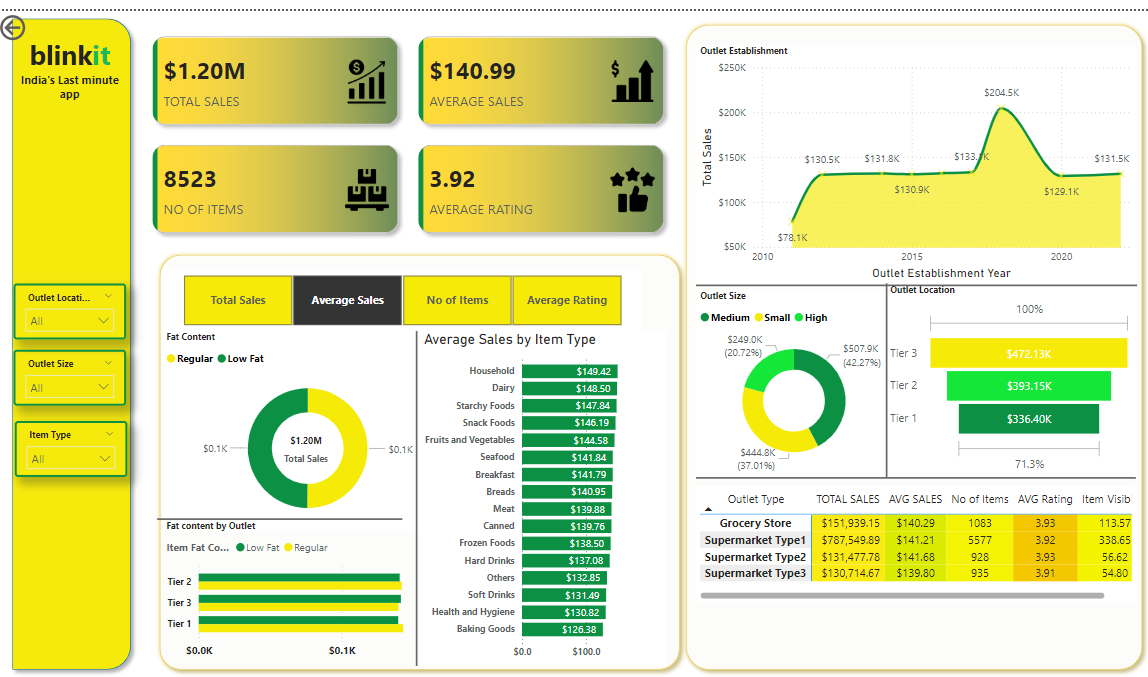

What the dashboard file says about the page in this screenshot:
{"tool":"powerbi","page":{"name":"Page 1","canvas":[1400,800],"ordinal":0},"visuals":[{"type":"shape","box":[10.5,0,160.6,800],"z":0},{"type":"textbox","box":[21,25.5,135.1,94.6],"z":1000},{"type":"cardVisual","fields":{"Data":["Sheet1.Total Sales","Sheet1.Average Sales","Sheet1.No of Items","Sheet1.Average Rating"]},"box":[171.1,13.5,648.4,270.2],"z":2000},{"type":"shape","box":[187.6,283.7,642.4,516.3],"z":3000},{"type":"donutChart","title":"Fat Content","fields":{"Y":["Sheet1.Average Sales"],"Category":["Sheet1.Item Fat Content"]},"box":[199.6,384.2,349.7,240.1],"z":4000},{"type":"slicer","fields":{"Values":["Metrics.Metrics"]},"box":[199.6,310.7,574.8,73.5],"z":5000},{"type":"cardVisual","fields":{"Data":["Sheet1.Total Sales"]},"box":[340.7,502.8,63,48],"z":6000},{"type":"clusteredBarChart","title":"Fat content by Outlet","fields":{"Y":["Sheet1.Average Sales"],"Category":["Sheet1.Outlet Location Type"],"Series":["Sheet1.Item Fat Content"]},"box":[199.6,610.9,349.7,175.6],"z":7000},{"type":"shape","box":[193.6,585.3,294.2,49.5],"z":8000},{"type":"clusteredBarChart","fields":{"Y":["Sheet1.Average Sales"],"Category":["Sheet1.Item Type"]},"box":[508.8,384.2,297.2,402.2],"z":9000},{"type":"shape","box":[819.5,7.5,565.8,792.5],"z":10000},{"type":"lineChart","title":"Outlet Establishment","fields":{"Category":["Sheet1.Outlet Establishment Year"],"Y":["Sheet1.Total Sales"]},"box":[840.5,40.5,528.3,286.7],"z":11000},{"type":"donutChart","title":"Outlet Size","fields":{"Y":["Sheet1.Total Sales"],"Category":["Sheet1.Outlet Size"]},"box":[840.5,334.7,235.6,225.1],"z":12000},{"type":"funnel","title":"Outlet Location","fields":{"Y":["Sheet1.Total Sales"],"Category":["Sheet1.Outlet Location Type"]},"box":[1068.6,327.2,300.2,232.6],"z":13000},{"type":"pivotTable","fields":{"Rows":["Sheet1.Outlet Type"],"Values":["Sheet1.Total Sales","Sheet1.Average Sales","Sheet1.No of Items","Sheet1.Average Rating","Sum(Sheet1.Item Visibility)"]},"box":[840.5,570.3,528.3,141.1],"z":14000},{"type":"actionButton","box":[0,0,100,40],"z":15000},{"type":"slicer","title":"Outlet Location ","fields":{"Values":["Sheet1.Outlet Location Type"]},"box":[21,327.2,135.1,67.5],"z":16000},{"type":"slicer","title":"Outlet Location ","fields":{"Values":["Sheet1.Outlet Size"]},"box":[21,406.7,135.1,67.5],"z":17000},{"type":"slicer","title":"Outlet Location ","fields":{"Values":["Sheet1.Item Type"]},"box":[22.5,492.3,135.1,67.5],"z":18000},{"type":"shape","box":[840.5,535.8,528.3,49.5],"z":19000},{"type":"shape","box":[840.5,310.7,529.8,37.5],"z":20000},{"type":"shape","box":[486.3,384.2,37.5,402.2],"z":21000},{"type":"shape","box":[1050.6,327.2,37.5,232.6],"z":22000}]}

Visuals, with their boxes on the page's 1400x800 design canvas (x1, y1, x2, y2). These are canvas units, not pixel positions in the 1148x677 screenshot, which may show the page scaled, cropped or inside an application window:
shape: left=10, top=0, right=171, bottom=800
textbox: left=21, top=26, right=156, bottom=120
cardVisual - Sheet1.Total Sales x Sheet1.Average Sales: left=171, top=14, right=820, bottom=284
shape: left=188, top=284, right=830, bottom=800
"Fat Content" donutChart: left=200, top=384, right=549, bottom=624
slicer - Metrics.Metrics: left=200, top=311, right=774, bottom=384
cardVisual - Sheet1.Total Sales: left=341, top=503, right=404, bottom=551
"Fat content by Outlet" clusteredBarChart: left=200, top=611, right=549, bottom=786
shape: left=194, top=585, right=488, bottom=635
clusteredBarChart - Sheet1.Average Sales x Sheet1.Item Type: left=509, top=384, right=806, bottom=786
shape: left=820, top=8, right=1385, bottom=800
"Outlet Establishment" lineChart: left=840, top=40, right=1369, bottom=327
"Outlet Size" donutChart: left=840, top=335, right=1076, bottom=560
"Outlet Location" funnel: left=1069, top=327, right=1369, bottom=560
pivotTable - Sheet1.Outlet Type x Sheet1.Total Sales: left=840, top=570, right=1369, bottom=711
actionButton: left=0, top=0, right=100, bottom=40
"Outlet Location " slicer: left=21, top=327, right=156, bottom=395
"Outlet Location " slicer: left=21, top=407, right=156, bottom=474
"Outlet Location " slicer: left=22, top=492, right=158, bottom=560
shape: left=840, top=536, right=1369, bottom=585
shape: left=840, top=311, right=1370, bottom=348
shape: left=486, top=384, right=524, bottom=786
shape: left=1051, top=327, right=1088, bottom=560
